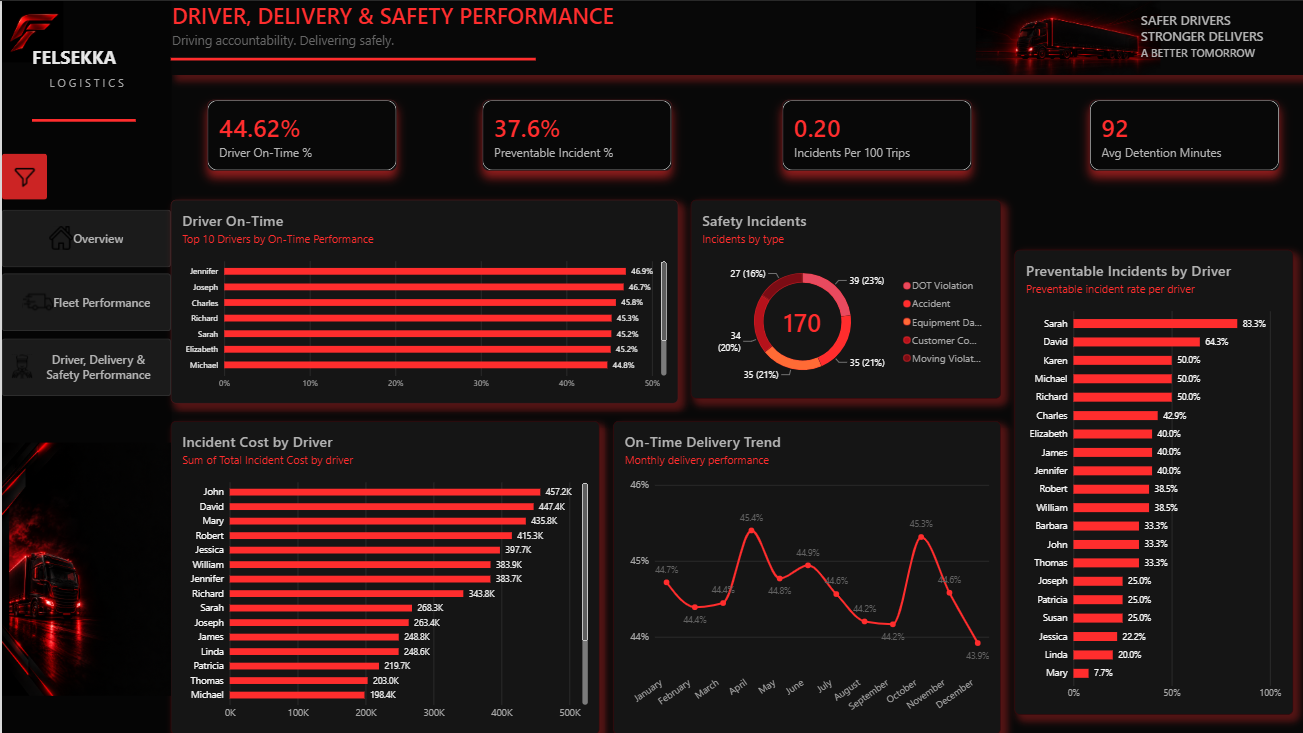

The page's visual inventory and layout, read from the dashboard file:
{"tool":"powerbi","page":{"name":" 2Driver, Delivery & Safety Performance","canvas":[1920,1080],"ordinal":2},"visuals":[{"type":"textbox","box":[250.3,0,1669.3,108.6],"z":0},{"type":"shape","box":[237.1,16.1,481.4,1065.9],"z":0,"group":"g1"},{"type":"image","box":[1312.3,0,515.3,108.6],"z":1000},{"type":"slicer","fields":{"Values":["maintenance_records.maintenance_type"]},"box":[242.1,366.1,372.8,304],"z":1000,"group":"g1"},{"type":"shape","box":[0,0,250,1080.4],"z":2000},{"type":"slicer","fields":{"Values":["safety_incidents.incident_type"]},"box":[242.1,27.7,372.8,304],"z":2000,"group":"g1"},{"type":"image","box":[0,0,90,90],"z":3000},{"type":"slicer","fields":{"Values":["safety_incidents.location_state"]},"box":[242.1,711.7,372.8,304],"z":3000,"group":"g1"},{"type":"actionButton","box":[614.9,27.7,100,40],"z":4000,"group":"g1"},{"type":"textbox","box":[44.2,64.4,152.8,44.2],"z":4000},{"type":"textbox","box":[69.9,108.6,149.1,36.8],"z":5000},{"type":"shape","box":[44.2,44.2,152.8,263.2],"z":6000},{"type":"actionButton","box":[0,307.4,248.5,84.7],"z":7000},{"type":"cardVisual","fields":{"Data":["all measures.Driver On-Time %"]},"box":[301.8,145.4,280,105],"z":8000},{"type":"cardVisual","fields":{"Data":["all measures.Preventable Incident %"]},"box":[706.8,145.4,280,105],"z":9000},{"type":"cardVisual","fields":{"Data":["all measures.Incidents Per 100 Trips"]},"box":[1148.5,145.4,280,105],"z":10000},{"type":"cardVisual","fields":{"Data":["all measures.Avg Detention Minutes"]},"box":[1601.2,145.4,280,105],"z":11000},{"type":"textbox","box":[302,250,280,830],"z":12000},{"type":"textbox","box":[1676.7,14.7,242.9,93.9],"z":13000},{"type":"clusteredBarChart","title":"Driver On-Time ","fields":{"Category":["drivers.first_name"],"Y":["all measures.Driver On-Time %"]},"box":[248.5,292.6,747.2,300],"z":14000},{"type":"actionButton","box":[0,224.5,66.3,68.1],"z":15000},{"type":"group","id":"g1","title":"Group 1","box":[237.1,16.1,481.4,1065.9],"z":16000},{"type":"donutChart","title":"Safety Incidents","fields":{"Category":["safety_incidents.incident_type"],"Y":["CountNonNull(safety_incidents.incident_id)"]},"box":[1014.1,292.6,456.4,292.6],"z":17000},{"type":"clusteredBarChart","title":"Incident Cost by Driver","fields":{"Category":["drivers.first_name"],"Y":["Sum(safety_incidents.Total Incident Cost)"]},"box":[248.5,618.4,631.3,462],"z":18000},{"type":"lineChart","title":"On-Time Delivery Trend","fields":{"Category":["driver_monthly_metrics.month.Variation.Date Hierarchy.Month","driver_monthly_metrics.month.Variation.Date Hierarchy.Day"],"Y":["all measures.Driver On-Time %"]},"box":[900,618.4,570.6,462],"z":19000},{"type":"clusteredBarChart","title":"Preventable Incidents by Driver","fields":{"Category":["drivers.first_name"],"Y":["all measures.Preventable Incident %"]},"box":[1490.8,366.3,410.4,684.7],"z":20000},{"type":"textbox","box":[250.3,44.2,649.7,46],"z":21000},{"type":"shape","box":[250.5,11.7,537.4,149.1],"z":22000},{"type":"actionButton","box":[0,401.2,248.5,84.7],"z":23000},{"type":"actionButton","box":[0,496.9,248.5,84.7],"z":24000},{"type":"image","box":[0,592.6,248.5,487.7],"z":25000}]}

Visuals, with their boxes in screenshot pixels (x1, y1, x2, y2), scaled from the page's 1920x1080 canvas onto the 1303x733 screenshot:
textbox: 170 0 1302 74
shape: 161 11 488 732
image: 891 0 1240 74
slicer - maintenance_records.maintenance_type: 164 248 417 455
shape: 0 0 170 732
slicer - safety_incidents.incident_type: 164 19 417 225
image: 0 0 61 61
slicer - safety_incidents.location_state: 164 483 417 689
actionButton: 417 19 485 46
textbox: 30 44 134 74
textbox: 47 74 149 99
shape: 30 30 134 209
actionButton: 0 209 169 266
cardVisual - all measures.Driver On-Time %: 205 99 395 170
cardVisual - all measures.Preventable Incident %: 480 99 670 170
cardVisual - all measures.Incidents Per 100 Trips: 779 99 969 170
cardVisual - all measures.Avg Detention Minutes: 1087 99 1277 170
textbox: 205 170 395 732
textbox: 1138 10 1302 74
"Driver On-Time " clusteredBarChart: 169 199 676 402
actionButton: 0 152 45 199
"Group 1" group: 161 11 488 732
"Safety Incidents" donutChart: 688 199 998 397
"Incident Cost by Driver" clusteredBarChart: 169 420 597 732
"On-Time Delivery Trend" lineChart: 611 420 998 732
"Preventable Incidents by Driver" clusteredBarChart: 1012 249 1290 713
textbox: 170 30 611 61
shape: 170 8 535 109
actionButton: 0 272 169 330
actionButton: 0 337 169 395
image: 0 402 169 732
